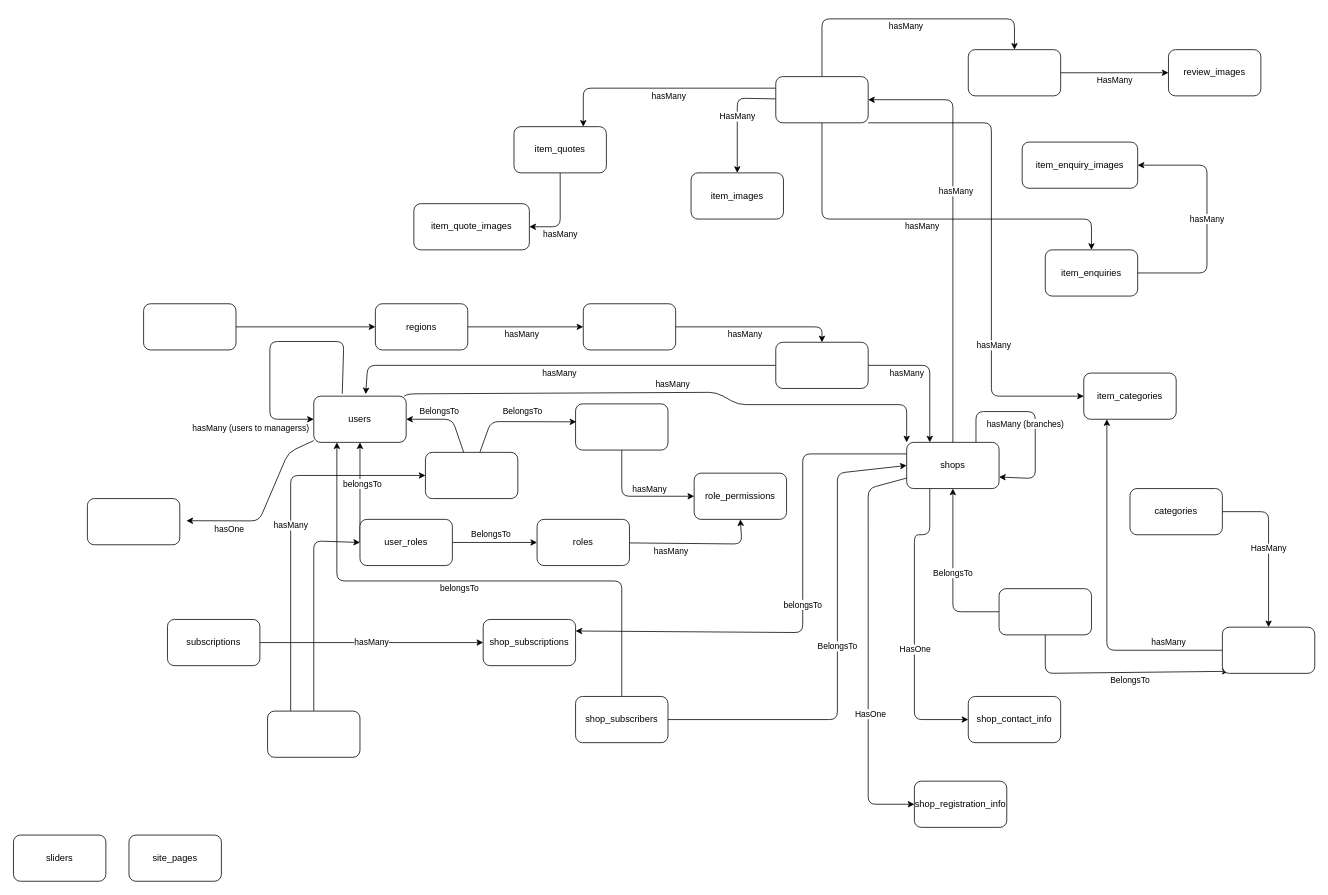
The diagram is 1328 pixels wide and 895 high, and some of its shapes have lost their labels. Each missing label, with the centre of its shape:
"admins" belongs at (x=313, y=733).
"countries" belongs at (x=189, y=326).
"items" belongs at (x=821, y=99).
"permissions" belongs at (x=621, y=426).
"reviews" belongs at (x=1014, y=72).
"shop_categories" belongs at (x=1044, y=611).
"streets" belongs at (x=821, y=364).
"sub_categories" belongs at (x=1268, y=649).
"towns" belongs at (x=629, y=326).
"user_permissions" belongs at (x=471, y=475).
"user_profiles" belongs at (x=133, y=521).
